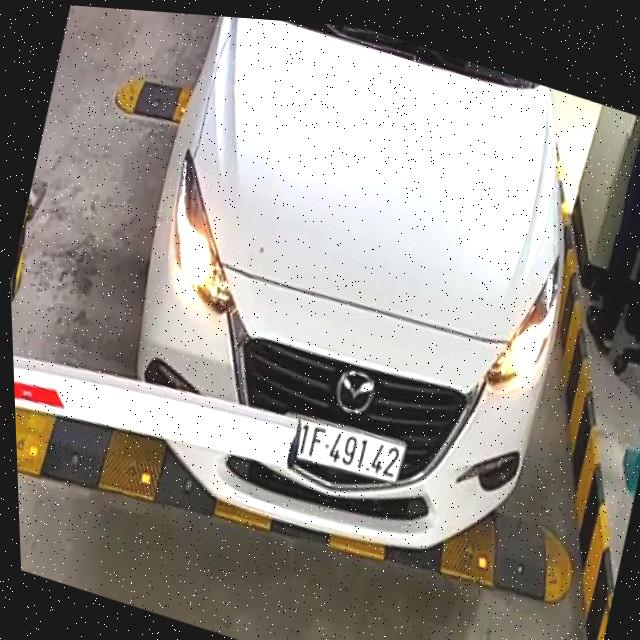car: (72, 5, 631, 609)
plate: (265, 397, 411, 495)
